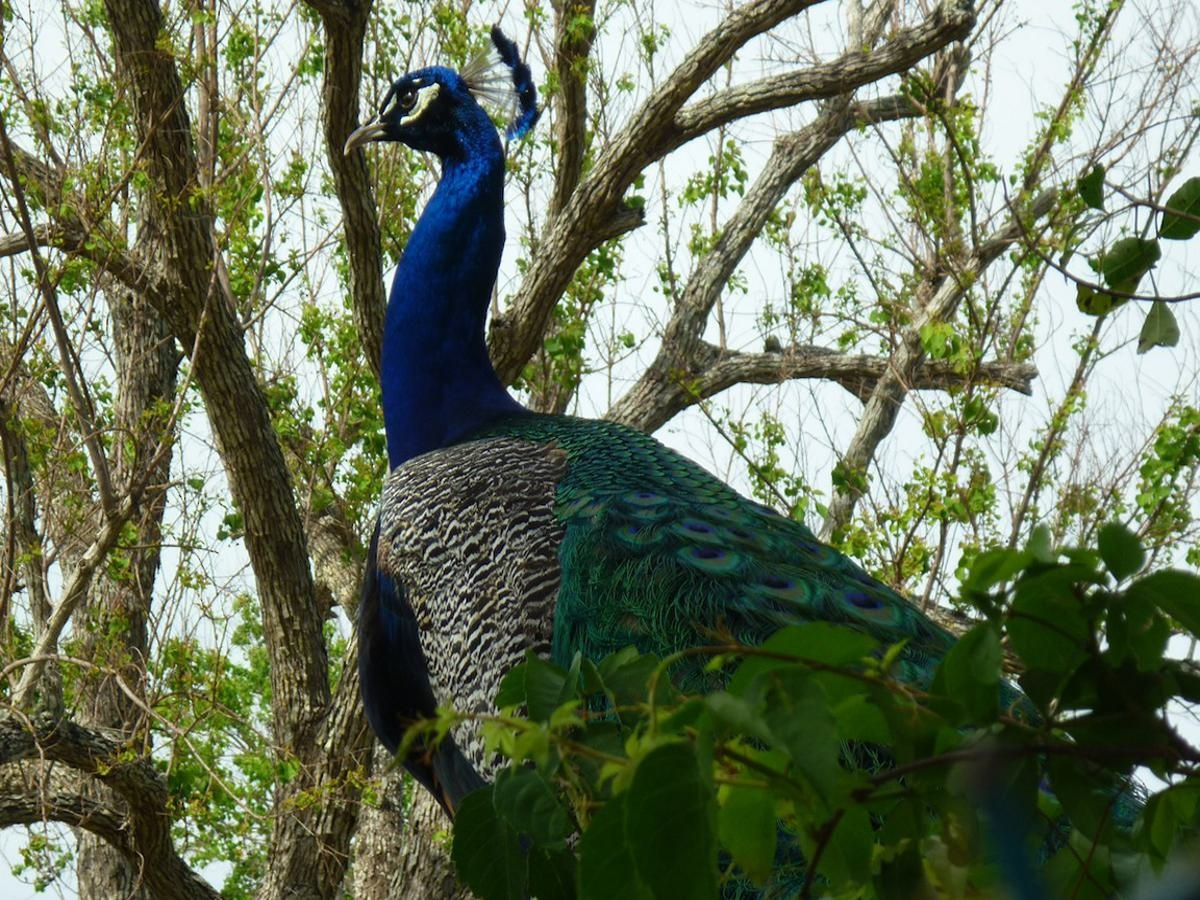peacock: (315, 46, 955, 887)
